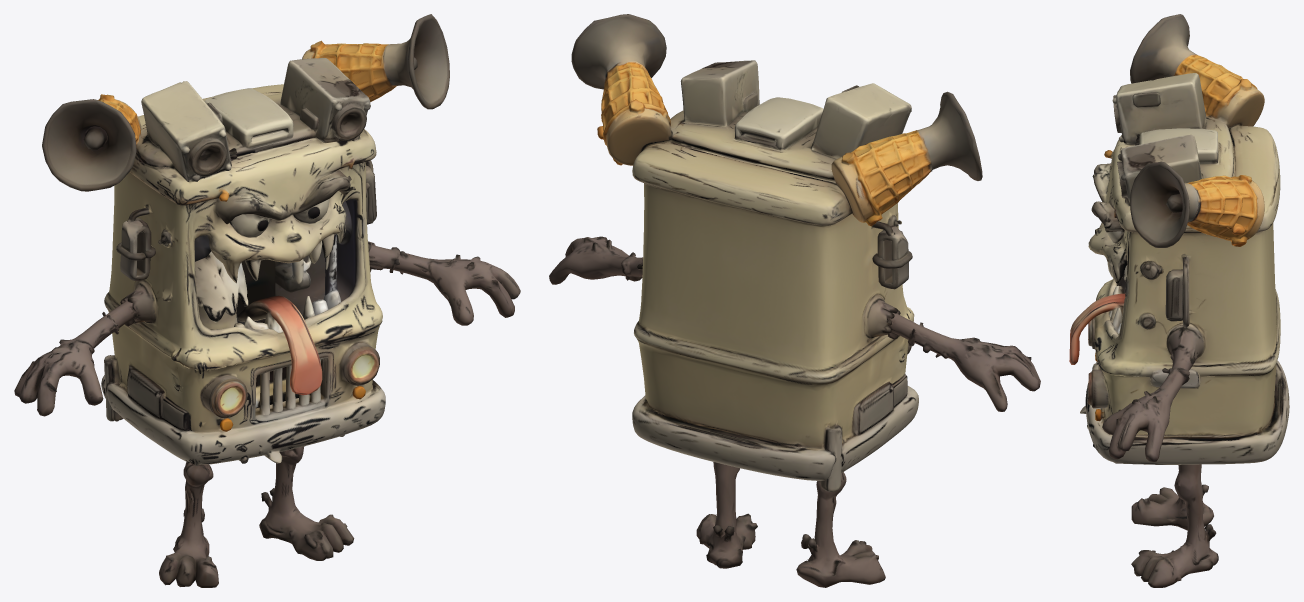
Rendered from the_ice_cream_truck.glb.
The picture shows the model from 3 angles, left to right: view 1: azimuth 30°, elevation 25°; view 2: azimuth 150°, elevation 25°; view 3: azimuth 270°, elevation 25°; orthographic projection. The views are drawn at different scales.
Parts seen in each view (by area): view 1: the_ice_cream_truck; view 2: the_ice_cream_truck; view 3: the_ice_cream_truck.
Part boxes in pixels (<box>): the_ice_cream_truck: <box>14,14,520,587</box>; the_ice_cream_truck: <box>549,14,1040,587</box>; the_ice_cream_truck: <box>1069,14,1289,587</box>.
Bounding box in the file's own units: 3.42 × 3.4 × 1.47.
Materials: 1 (1 with a texture image).
